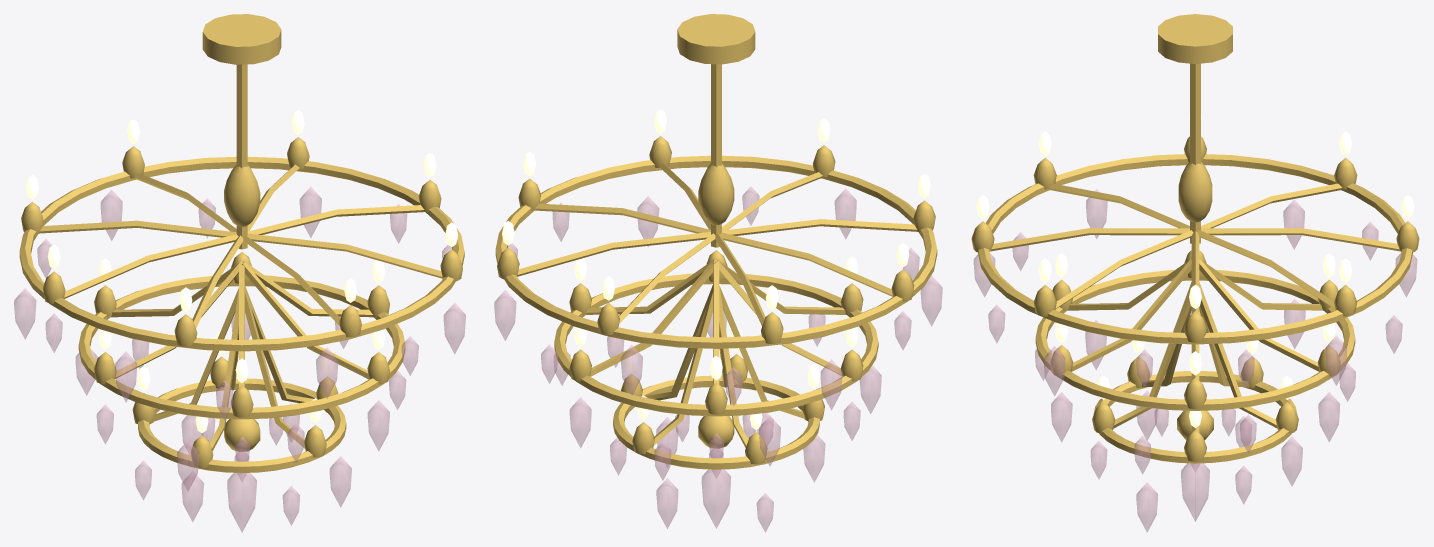
The model's file is chandelier_crystal.glb.
3 renders of one model, left to right at view 1: azimuth 30°, elevation 25°; view 2: azimuth 150°, elevation 25°; view 3: azimuth 270°, elevation 25°, orthographic. The views are drawn at different scales.
Visible parts, largest first — view 1: chandelier_crystal; view 2: chandelier_crystal; view 3: chandelier_crystal.
Part boxes in pixels (bbox=[...]): chandelier_crystal: bbox=[14, 14, 465, 532]; chandelier_crystal: bbox=[494, 14, 942, 532]; chandelier_crystal: bbox=[971, 14, 1419, 532].
Bounding box in the file's own units: 1.16 × 1.4 × 1.16.
